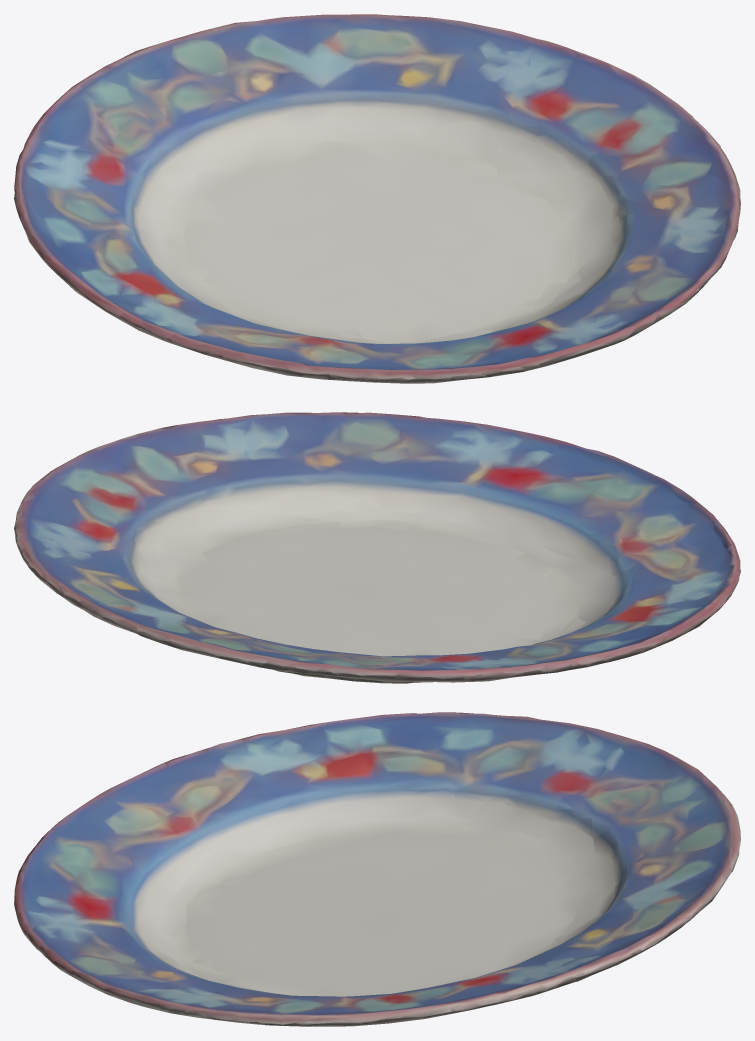
File: 0007_mask_008_plate.glb
The picture shows the model from 3 angles, top to bottom: view 1: azimuth 30°, elevation 25°; view 2: azimuth 150°, elevation 25°; view 3: azimuth 270°, elevation 25°; orthographic projection.
Visible parts, largest first — view 1: mask_008_object; view 2: mask_008_object; view 3: mask_008_object.
Boxes of the visible parts, <box> form: mask_008_object: <box>14,14,740,383</box>; mask_008_object: <box>14,412,740,683</box>; mask_008_object: <box>14,712,740,1026</box>.
Size of the model in its own units: 0.5293 by 0.0949 by 0.5272.
